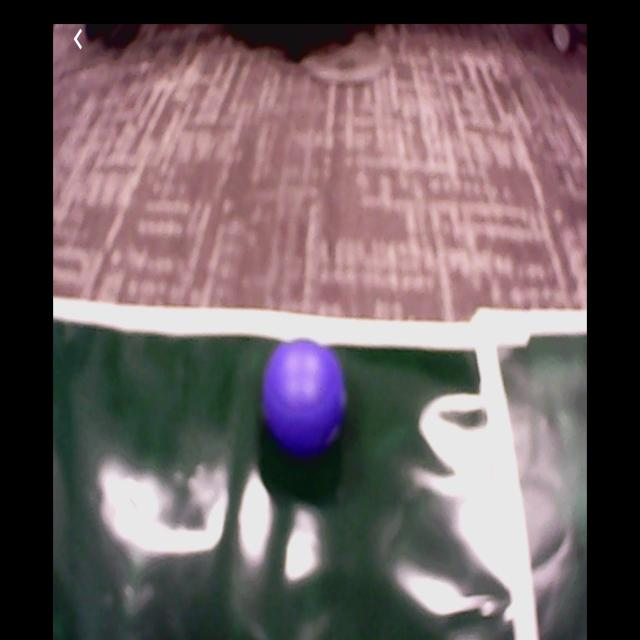ball: (263, 339, 348, 458)
